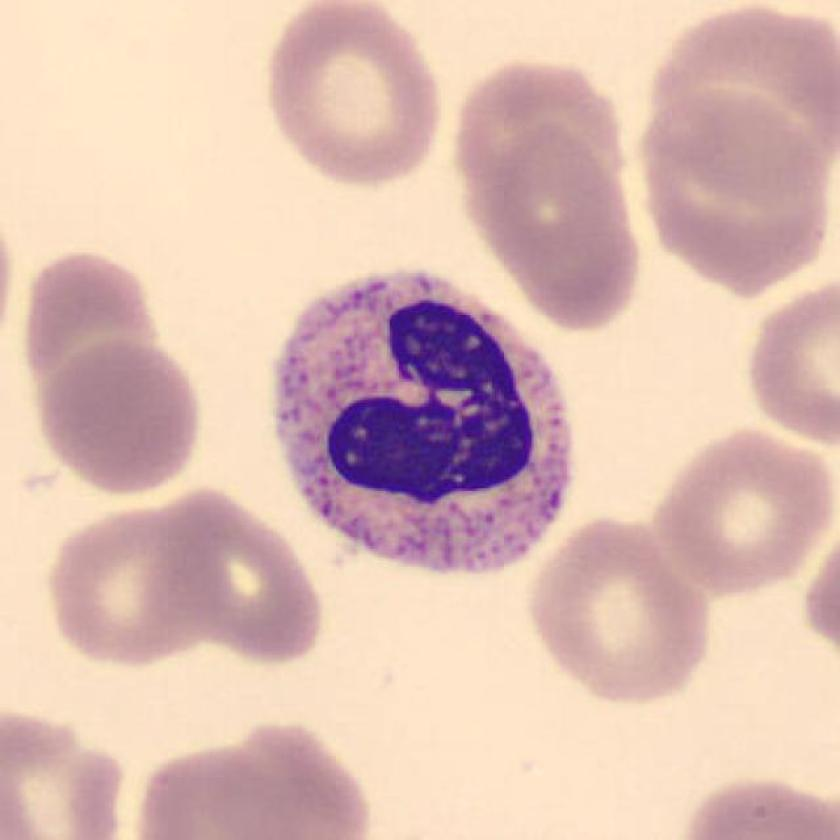neutrophil: (270, 267, 568, 572)
